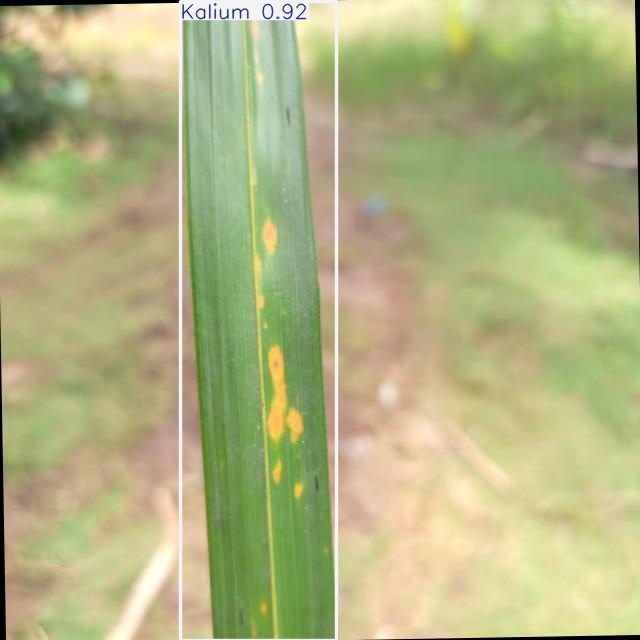Kalium: (181, 1, 336, 640)
